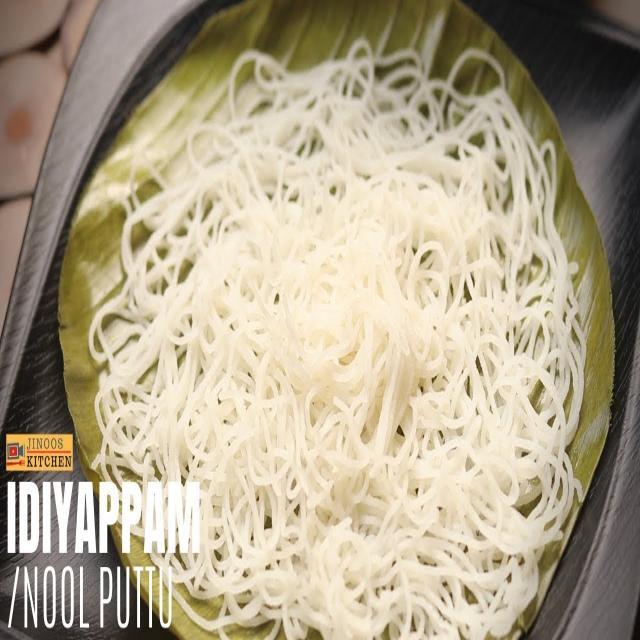IDIYAPPAM: (91, 50, 588, 639)
